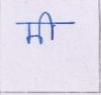i_matra: (42, 11, 58, 40)
